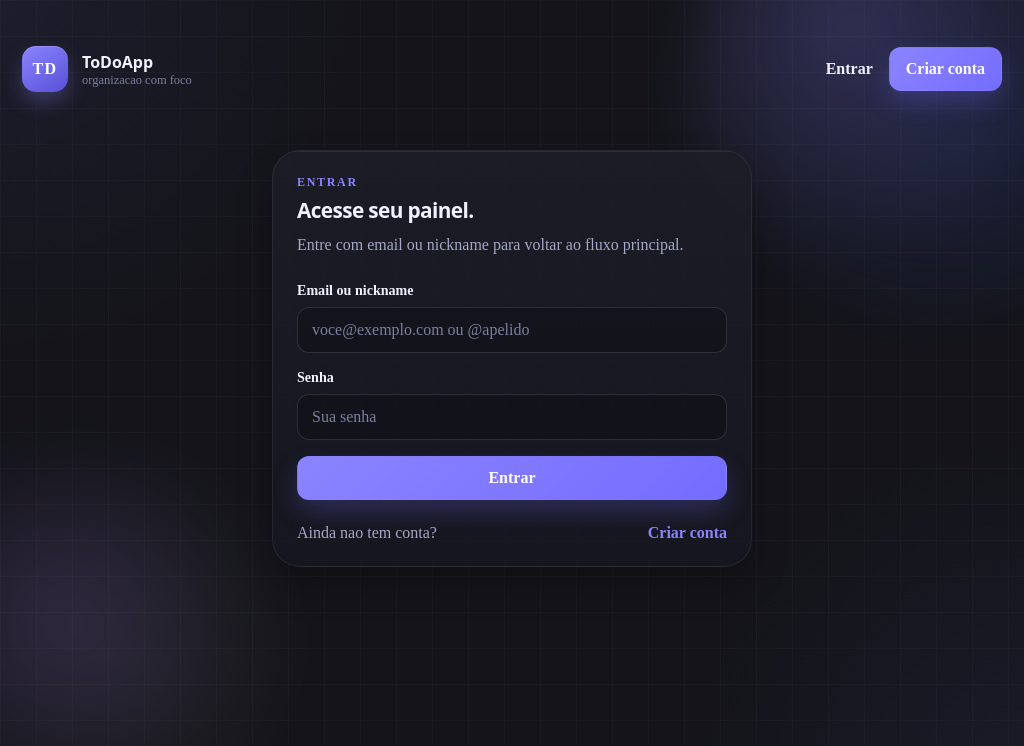
it: App smoke flows › submits login with @nickname as a nickname payload
Check: the heading "Acesse seu painel." is shown, box [297,196,474,224]
Type "@lucas" into the field labelled "Email ou nickname".
click(512, 330); type("@lucas")  # box [297,307,727,353]
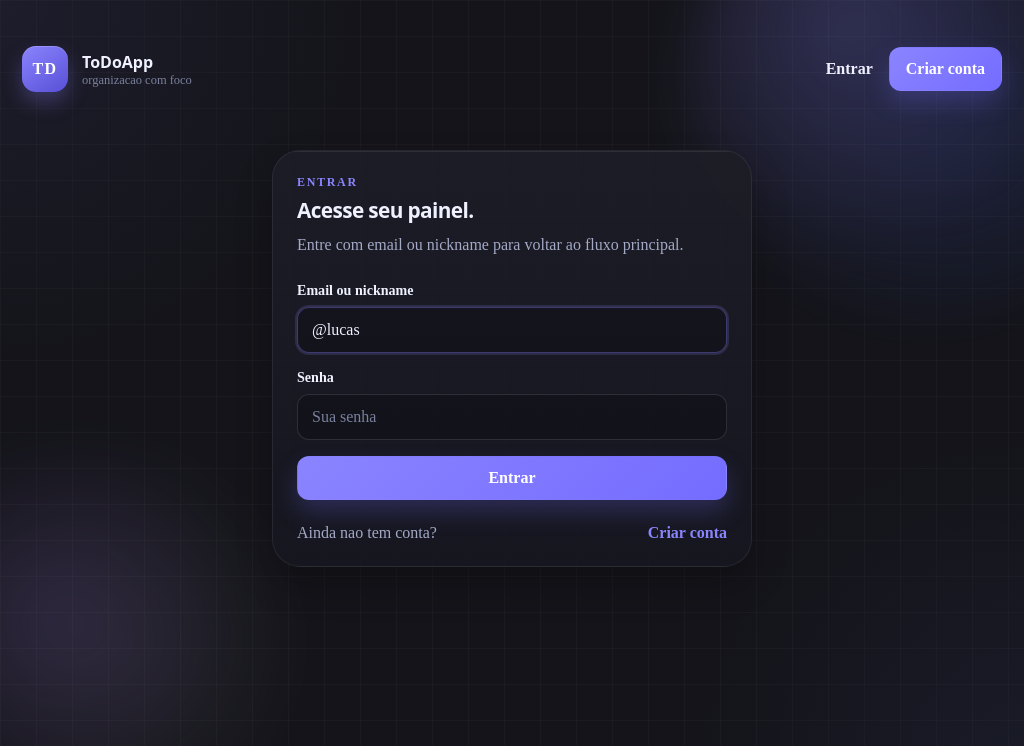
Type "Teste123A" into the password field labelled "Senha".
click(512, 417); type("Teste123A")  # box [297,394,727,440]
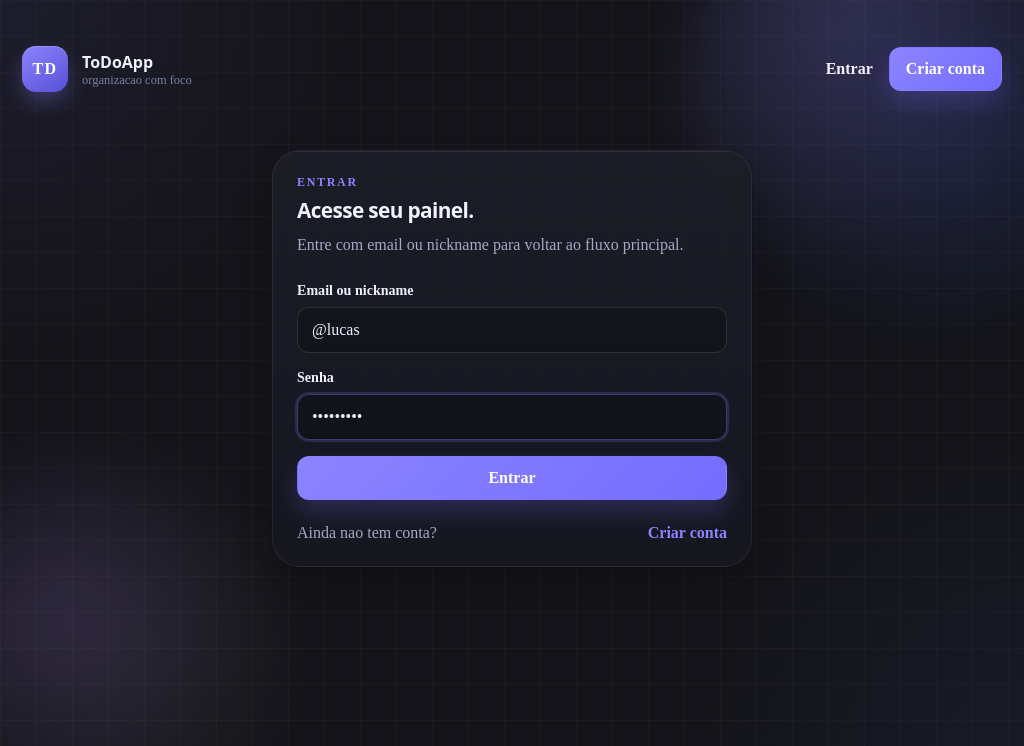
Click the button "Entrar".
click(512, 478)  # box [297,456,727,500]
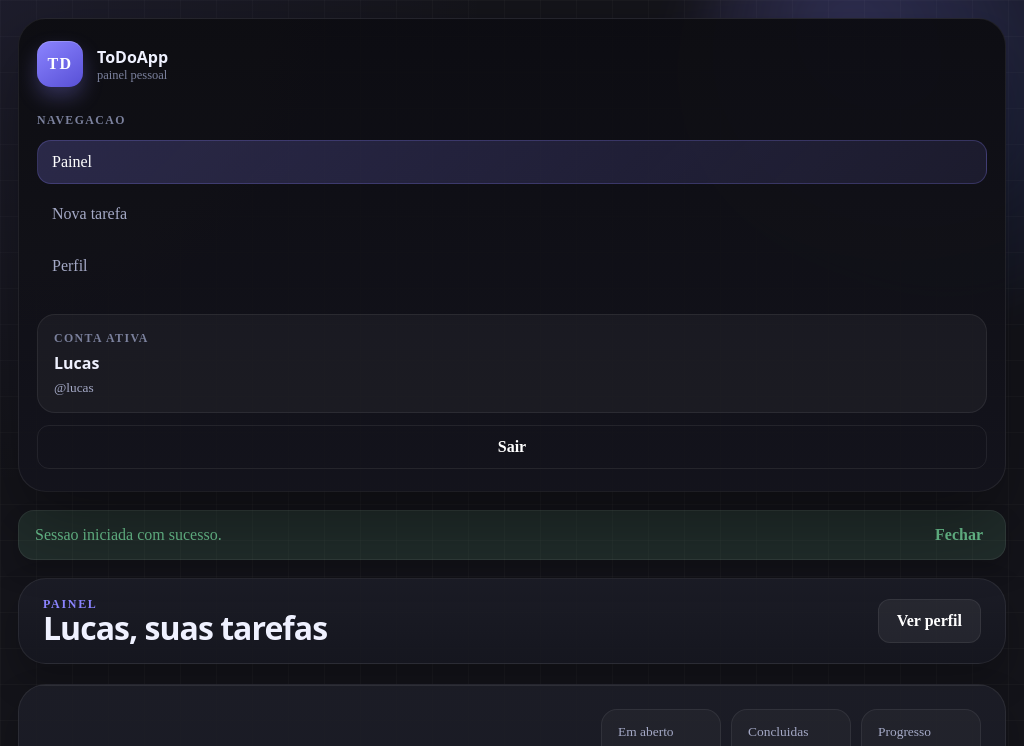
Check: the heading "Lucas, suas tarefas" is shown, box [43,612,327,645]
